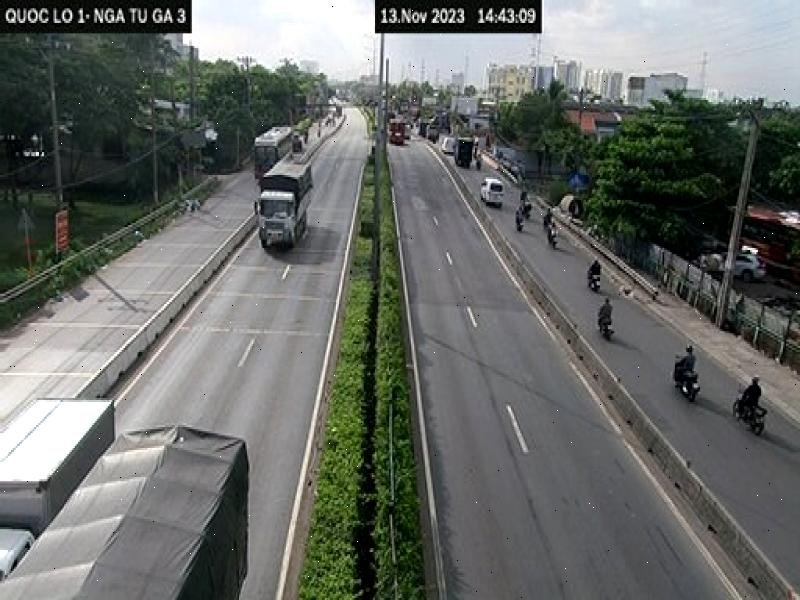truck: (252, 157, 310, 255)
